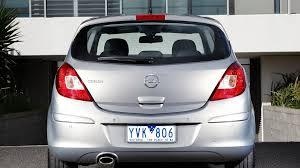opel: (140, 71, 163, 89)
